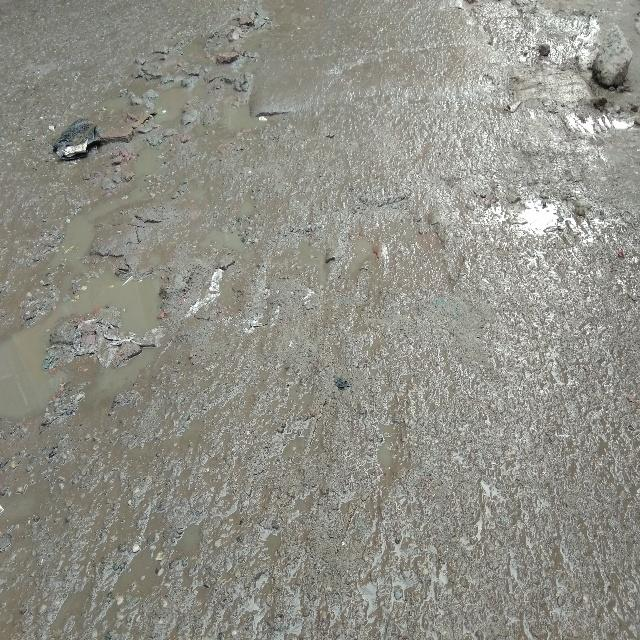Pothole: (0, 306, 71, 426), (151, 67, 244, 125), (560, 75, 638, 121)
Surface Erosion: (0, 0, 640, 640)
